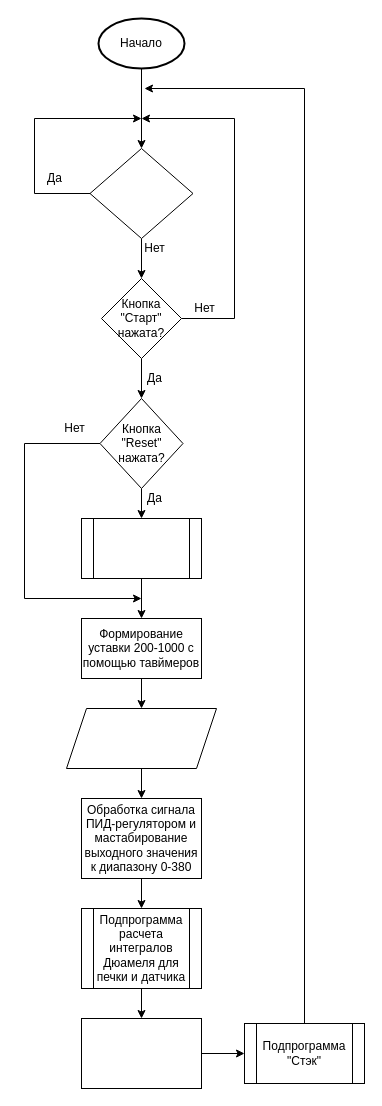
This 382x1106 diagram has some shape labels left out. The box of each missing label's shape, as (x1, y1, x2, y2) in pixels:
Кнопка "Стоп" нажата?: (89, 148, 193, 238)
Мастабирование значения 0-10мВ к диапазону температуры 0-1000: (80, 1018, 202, 1088)
Подпрограмма "Сброс": (80, 518, 202, 578)
Получение сигнала рассогласования N7:0 - N7:11: (66, 708, 216, 768)
